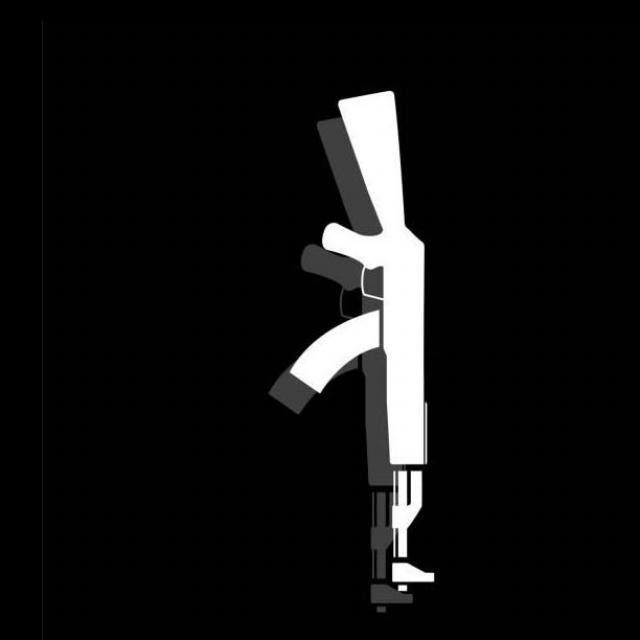weapon: (288, 89, 434, 602), (270, 116, 414, 614)
